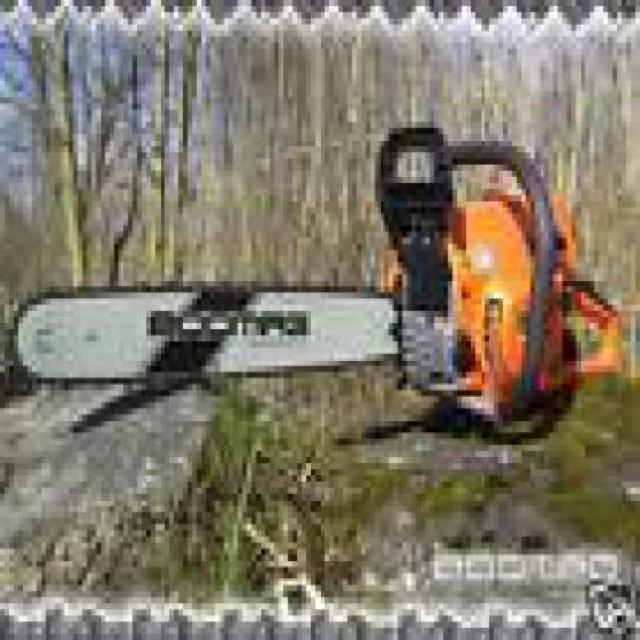Chainsaw: (4, 115, 636, 451)
